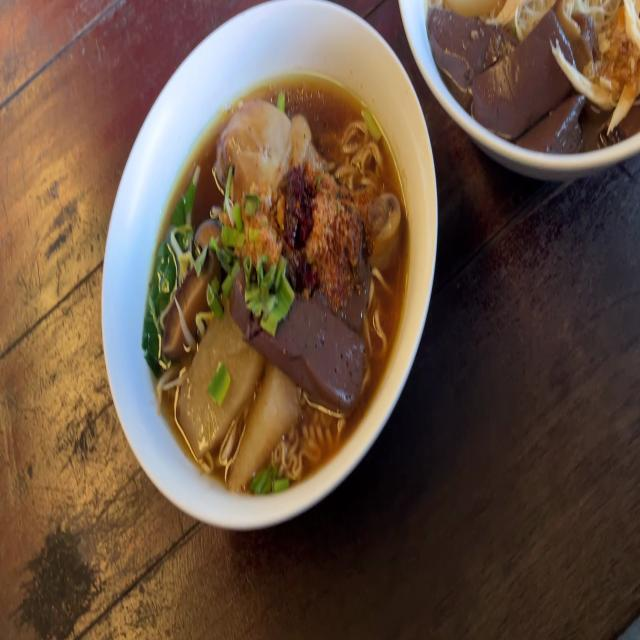noodle: (429, 0, 588, 149), (279, 302, 362, 398)
